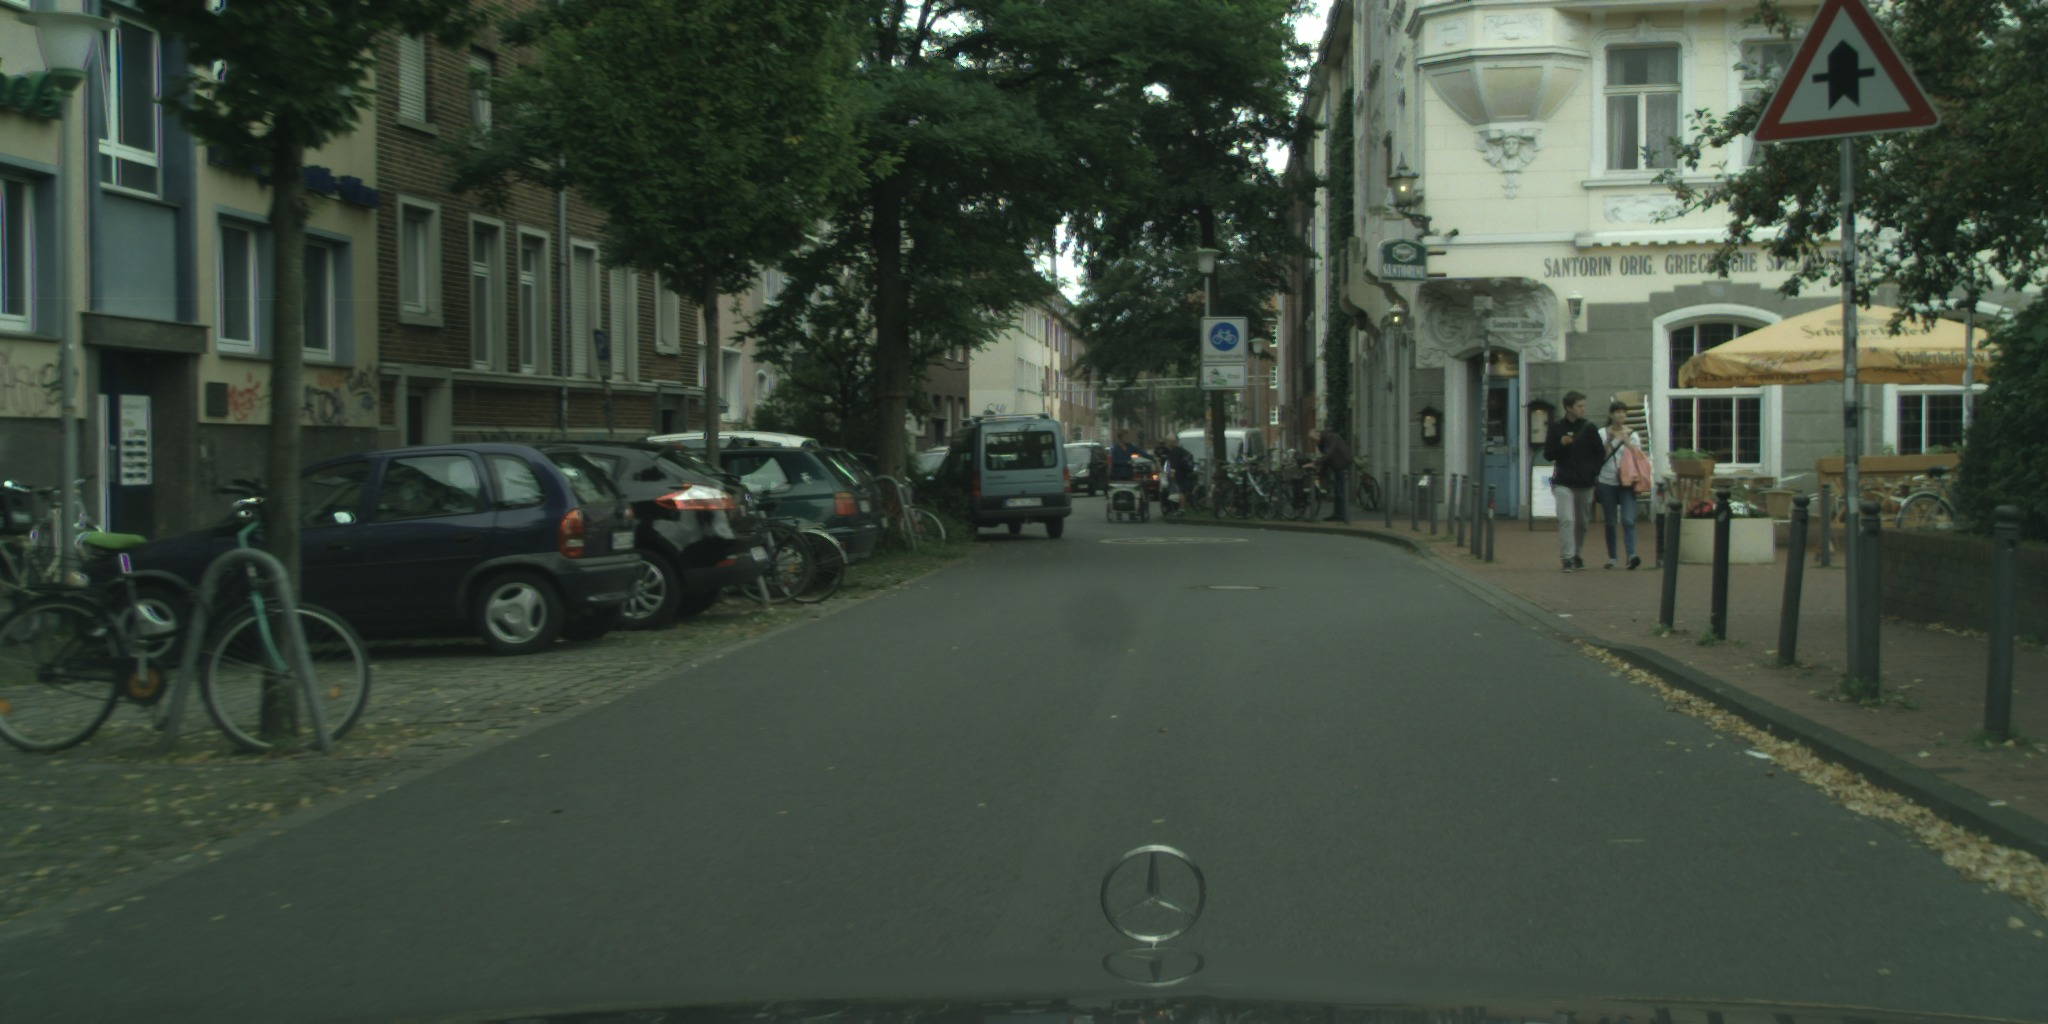bicycle: (0, 478, 374, 755), (745, 498, 849, 604), (730, 516, 812, 606), (1891, 463, 1970, 549), (867, 478, 947, 551), (1346, 456, 1381, 514)
car: (78, 442, 641, 656), (506, 440, 775, 629), (639, 446, 879, 570), (924, 412, 1074, 544), (628, 430, 832, 474), (1170, 425, 1267, 511), (817, 446, 890, 544), (902, 446, 963, 523), (1113, 452, 1178, 502), (1060, 442, 1107, 496), (1100, 446, 1119, 488)
person: (1542, 389, 1604, 574), (1595, 401, 1652, 573), (1302, 427, 1353, 523), (1110, 426, 1159, 500), (1087, 447, 1111, 503), (1153, 437, 1171, 477)
